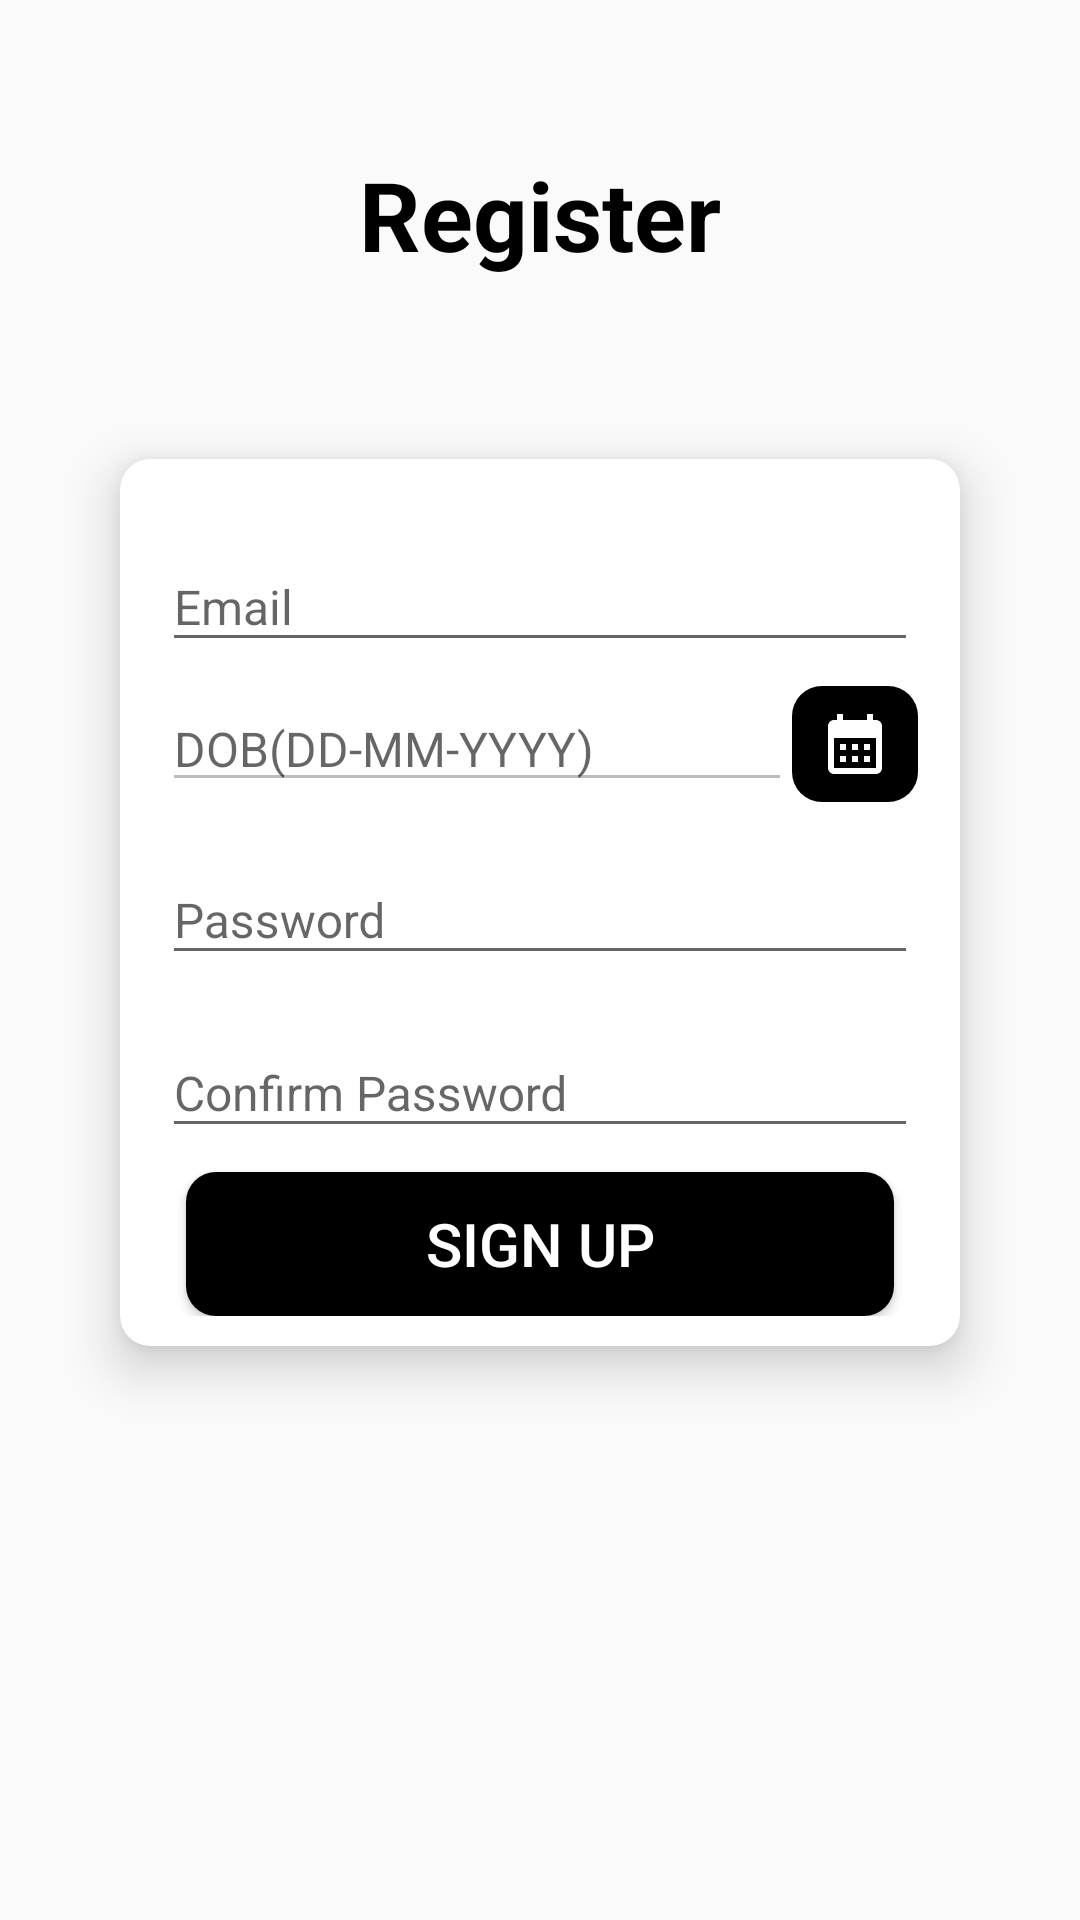

Where to tap for icons on this 1080 × 1920 app screen, as [x,y]:
calendar month: [855,744]
